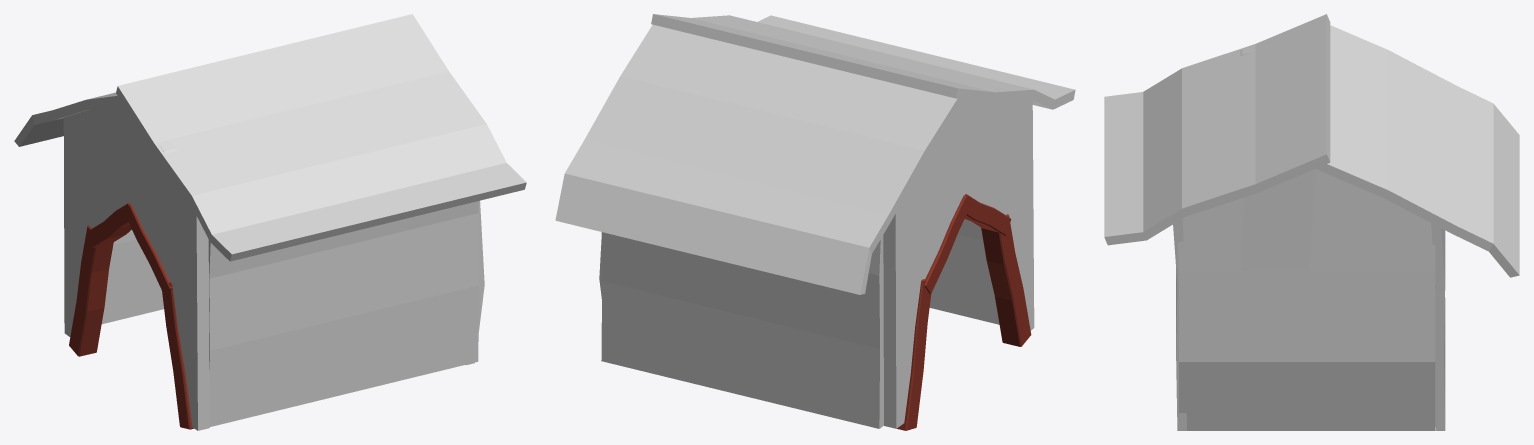
The model's file is DogHouse.fbx.
3 renders of one model, left to right at view 1: azimuth 30°, elevation 25°; view 2: azimuth 150°, elevation 25°; view 3: azimuth 270°, elevation 25°, orthographic. The views are drawn at different scales.
Parts seen in each view (by area): view 1: Cube.004, Cube.003, Cube, Cube.002, Cube.017f.003, Cube.005, Cube.017f, Cube.017f.002, Cube.017f.001, Cube.001; view 2: Cube.005, Cube.002, Cube, Cube.004, Cube.003, Cube.017f, Cube.017f.003, Cube.017f.002, Cube.017f.001; view 3: Cube.001, Cube.004, Cube.005, Cube.002, Cube.003.
Part boxes in pixels (box(x1,y1,x2,y2)): Cube.004: box(116, 14, 526, 261); Cube.003: box(208, 201, 478, 426); Cube: box(63, 105, 209, 430); Cube.002: box(101, 230, 163, 324); Cube.017f.003: box(69, 225, 113, 356); Cube.005: box(14, 92, 123, 146); Cube.017f: box(162, 282, 193, 429); Cube.017f.002: box(87, 202, 131, 247); Cube.017f.001: box(127, 204, 172, 297); Cube.001: box(466, 200, 484, 365); Cube.005: box(555, 24, 963, 294); Cube.002: box(601, 232, 883, 428); Cube: box(883, 87, 1034, 428); Cube.004: box(651, 14, 1075, 109); Cube.003: box(929, 219, 999, 324); Cube.017f: box(981, 214, 1031, 346); Cube.017f.003: box(897, 279, 931, 430); Cube.017f.002: box(924, 195, 969, 294); Cube.017f.001: box(965, 194, 1011, 235); Cube.001: box(1177, 169, 1435, 430); Cube.004: box(1104, 14, 1330, 245); Cube.005: box(1313, 25, 1519, 277); Cube.002: box(1431, 223, 1445, 430); Cube.003: box(1173, 219, 1186, 430).
Bounding box in the file's own units: 1939 × 1858 × 2391.
